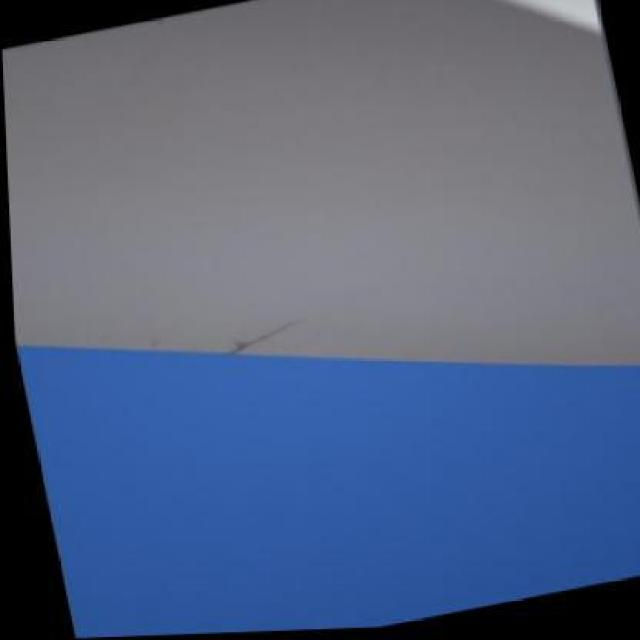Crack: (219, 312, 306, 356)
